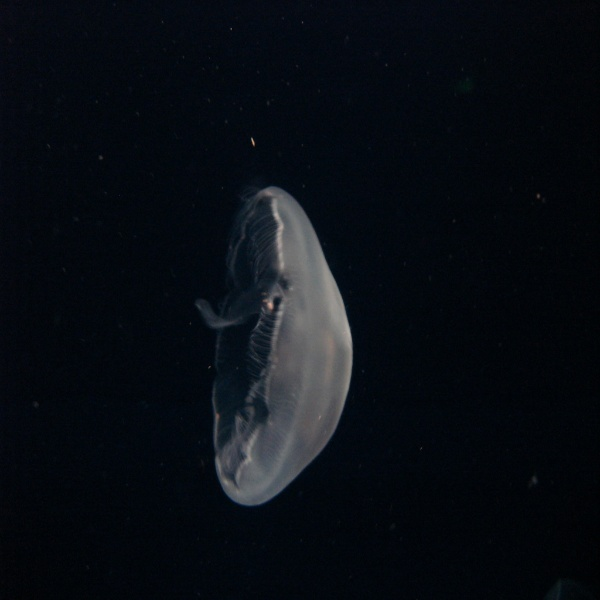Jellyfish: (195, 177, 353, 508)
